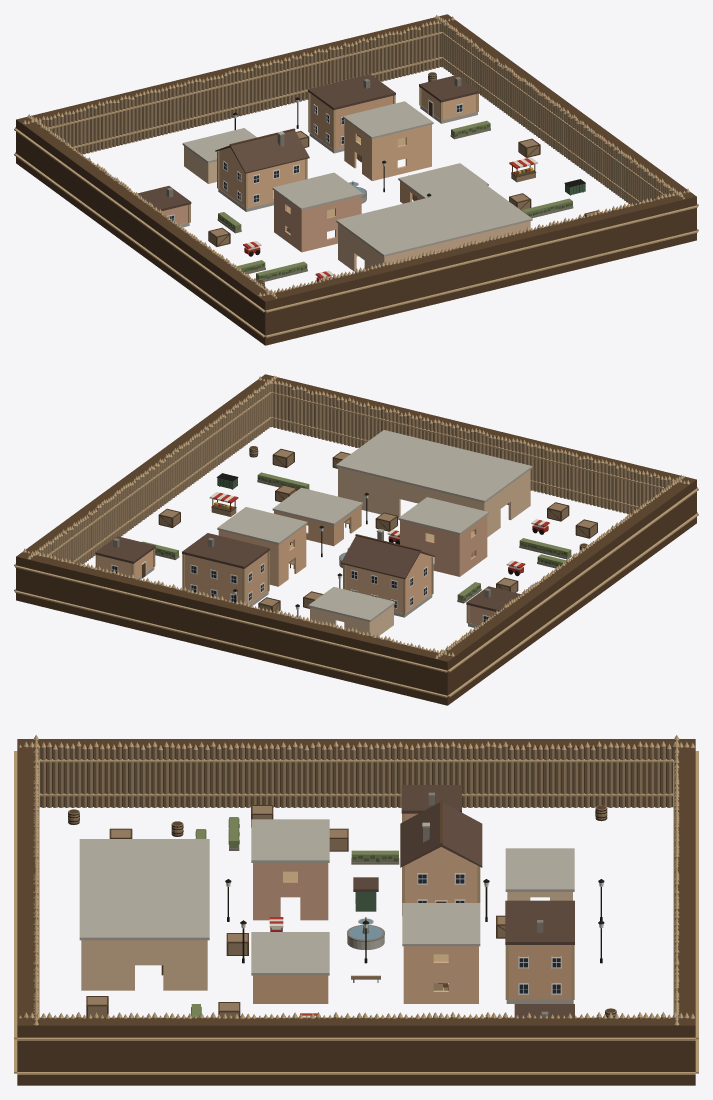
File: trapiche.glb
3 views of the same model, one above another, from view 1: azimuth 30°, elevation 25°; view 2: azimuth 150°, elevation 25°; view 3: azimuth 270°, elevation 25° (orthographic). The views are drawn at different scales.
Parts seen in each view (by area): view 1: map_wood_dark.001, map_wood.001, map_stone.001, map_wood_light.001, map_roof_slate.001, map_hw_e8b98f.001, map_wall_2.001, map_hw_d9a98a.001, map_hw_e4c19c.001, map_wall_3.001, map_hedge.001, map_stone_dark.001 (+2 smaller); view 2: map_wood_dark.001, map_wood.001, map_stone.001, map_wood_light.001, map_roof_slate.001, map_hw_e4c19c.001, map_wall_2.001, map_hw_d9a98a.001, map_wall_3.001, map_hw_e8b98f.001, map_hedge.001, map_hw_e9c9a4.001 (+5 smaller); view 3: map_wood_dark.001, map_wood.001, map_stone.001, map_wood_light.001, map_roof_slate.001, map_hw_e4c19c.001, map_hw_e8b98f.001, map_hw_d9a98a.001, map_wall_2.001, map_wall_3.001, map_hw_dcae86.001, map_hedge.001 (+4 smaller).
Part boxes in pixels (box(x1,y1,x2,y2)): map_wood_dark.001: box(16, 14, 696, 345); map_wood.001: box(23, 19, 689, 297); map_stone.001: box(180, 101, 532, 256); map_wood_light.001: box(14, 15, 698, 337); map_roof_slate.001: box(137, 74, 479, 210); map_hw_e8b98f.001: box(344, 119, 431, 180); map_wall_2.001: box(219, 88, 476, 207); map_hw_d9a98a.001: box(274, 190, 361, 252); map_hw_e4c19c.001: box(338, 221, 530, 271); map_wall_3.001: box(310, 93, 392, 149); map_hedge.001: box(218, 120, 572, 279); map_stone_dark.001: box(166, 77, 573, 281); map_wood_dark.001: box(16, 374, 696, 705); map_wood.001: box(23, 378, 689, 657); map_stone.001: box(137, 430, 532, 627); map_wood_light.001: box(14, 375, 698, 697); map_roof_slate.001: box(95, 533, 520, 611); map_hw_e4c19c.001: box(338, 467, 530, 537); map_wall_2.001: box(98, 550, 431, 613); map_hw_d9a98a.001: box(400, 515, 487, 576); map_wall_3.001: box(185, 552, 267, 604); map_hw_e8b98f.001: box(218, 525, 306, 586); map_hedge.001: box(142, 472, 571, 601); map_hw_e9c9a4.001: box(310, 605, 393, 637); map_wood_dark.001: box(17, 739, 695, 1085); map_wood.001: box(23, 739, 689, 1025); map_stone.001: box(79, 819, 574, 1003); map_wood_light.001: box(14, 735, 698, 1074); map_roof_slate.001: box(353, 785, 574, 1017); map_hw_e4c19c.001: box(81, 940, 207, 990); map_hw_e8b98f.001: box(403, 946, 478, 1003); map_hw_d9a98a.001: box(253, 863, 328, 920); map_wall_2.001: box(405, 847, 477, 902); map_wall_3.001: box(508, 945, 571, 999); map_hw_dcae86.001: box(253, 975, 328, 1003); map_hedge.001: box(191, 817, 398, 1017).
Bounding box in the file's own units: 72.72 × 10.02 × 72.72.
